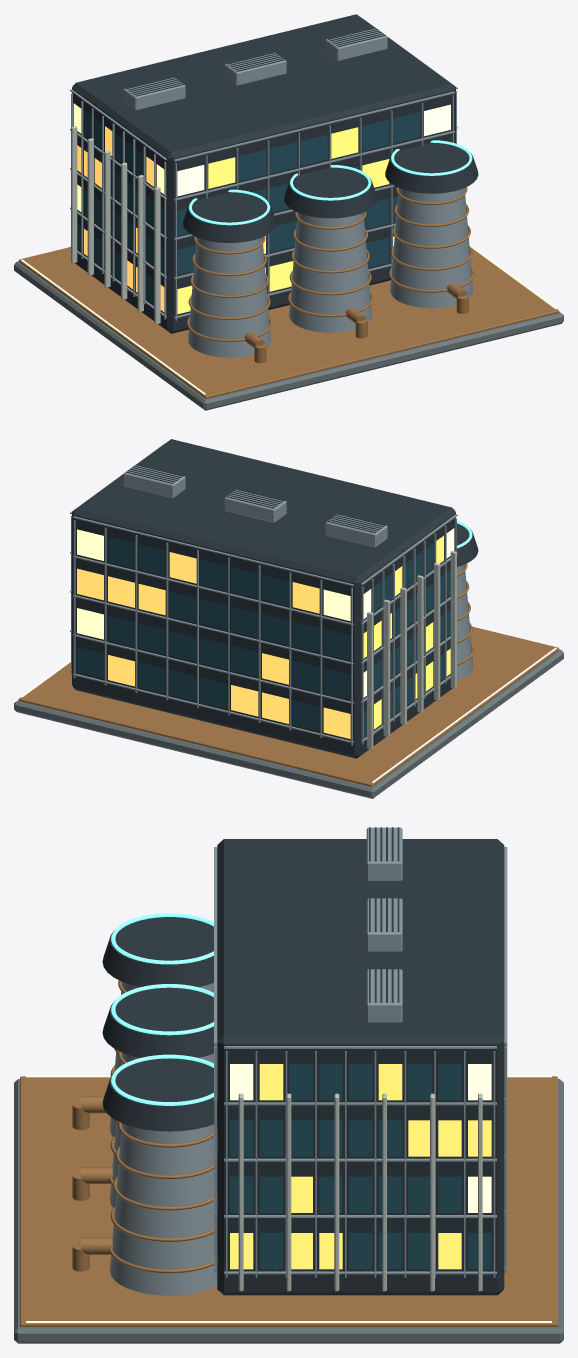
File: compute-foundry.lod0.glb
The picture shows the model from 3 angles, top to bottom: view 1: azimuth 30°, elevation 25°; view 2: azimuth 150°, elevation 25°; view 3: azimuth 270°, elevation 25°; orthographic projection. The views are drawn at different scales.
Visible parts, largest first — view 1: structure; view 2: structure; view 3: structure.
Boxes of the visible parts, x1,y1,x2,y2 form: structure: (14,14,563,410); structure: (14,439,563,798); structure: (14,827,563,1343).
Size of the model in its own units: 25 by 14.04 by 23.
